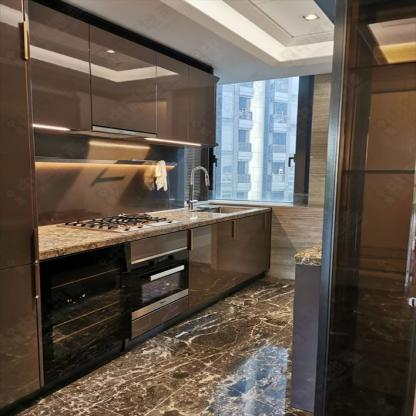Cupboard: (29, 0, 215, 145), (190, 212, 272, 310)
Exhaust Hood: (56, 125, 157, 140)
Faucet: (188, 165, 210, 208)
Oven: (126, 245, 191, 318)
Sink: (191, 206, 253, 214)
Stove: (59, 214, 176, 233)
